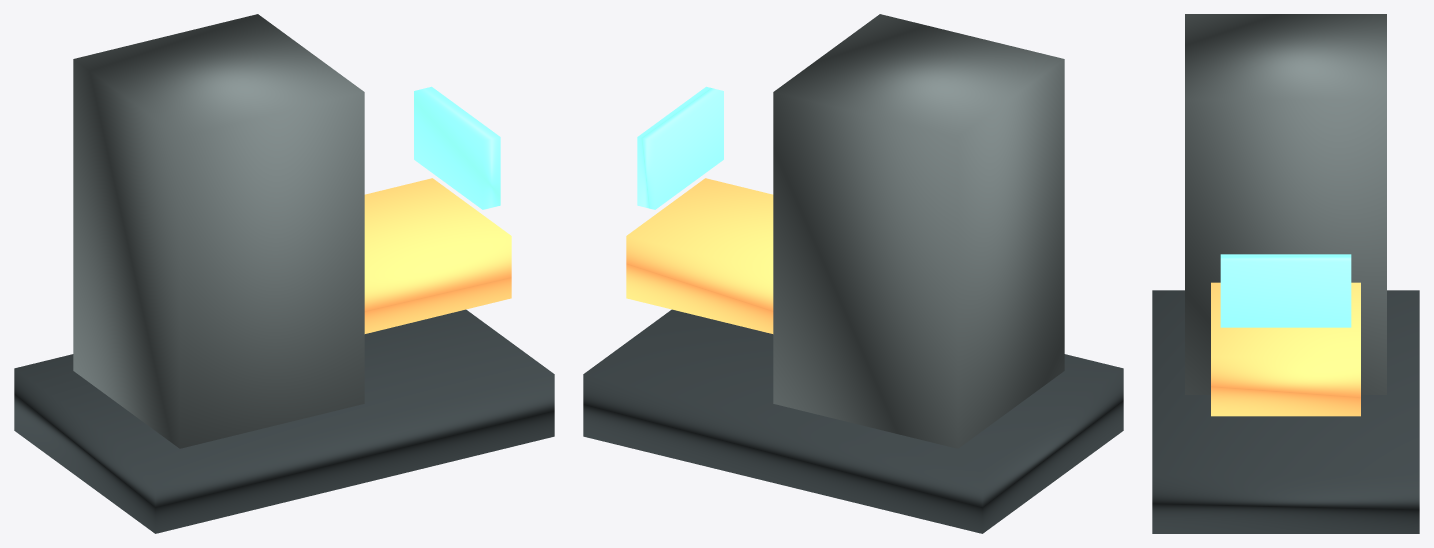
File: jovian-harvester-separator-package-lod2.glb
3 renders of one model, left to right at view 1: azimuth 30°, elevation 25°; view 2: azimuth 150°, elevation 25°; view 3: azimuth 270°, elevation 25°, orthographic. The views are drawn at different scales.
Parts seen in each view (by area): view 1: jovian-harvester-separator-package-vessel, jovian-harvester-separator-package-skid, jovian-harvester-separator-package-manifold, jovian-harvester-interactable-status; view 2: jovian-harvester-separator-package-vessel, jovian-harvester-separator-package-skid, jovian-harvester-separator-package-manifold, jovian-harvester-interactable-status; view 3: jovian-harvester-separator-package-vessel, jovian-harvester-separator-package-skid, jovian-harvester-separator-package-manifold, jovian-harvester-interactable-status.
Boxes of the visible parts, bbox=[...] form: jovian-harvester-separator-package-vessel: bbox=[73, 14, 364, 448]; jovian-harvester-separator-package-skid: bbox=[14, 309, 554, 533]; jovian-harvester-separator-package-manifold: bbox=[364, 178, 511, 333]; jovian-harvester-interactable-status: bbox=[414, 86, 500, 209]; jovian-harvester-separator-package-vessel: bbox=[773, 14, 1064, 448]; jovian-harvester-separator-package-skid: bbox=[583, 309, 1123, 533]; jovian-harvester-separator-package-manifold: bbox=[626, 178, 773, 333]; jovian-harvester-interactable-status: bbox=[637, 86, 723, 209]; jovian-harvester-separator-package-vessel: bbox=[1185, 14, 1386, 394]; jovian-harvester-separator-package-skid: bbox=[1152, 290, 1419, 533]; jovian-harvester-separator-package-manifold: bbox=[1211, 282, 1360, 416]; jovian-harvester-interactable-status: bbox=[1220, 254, 1351, 327].
Bounding box in the file's own units: 1.34 × 1.2 × 0.82.
